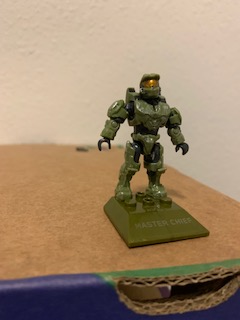chief: (97, 72, 190, 201)
spartan: (95, 70, 188, 199)
